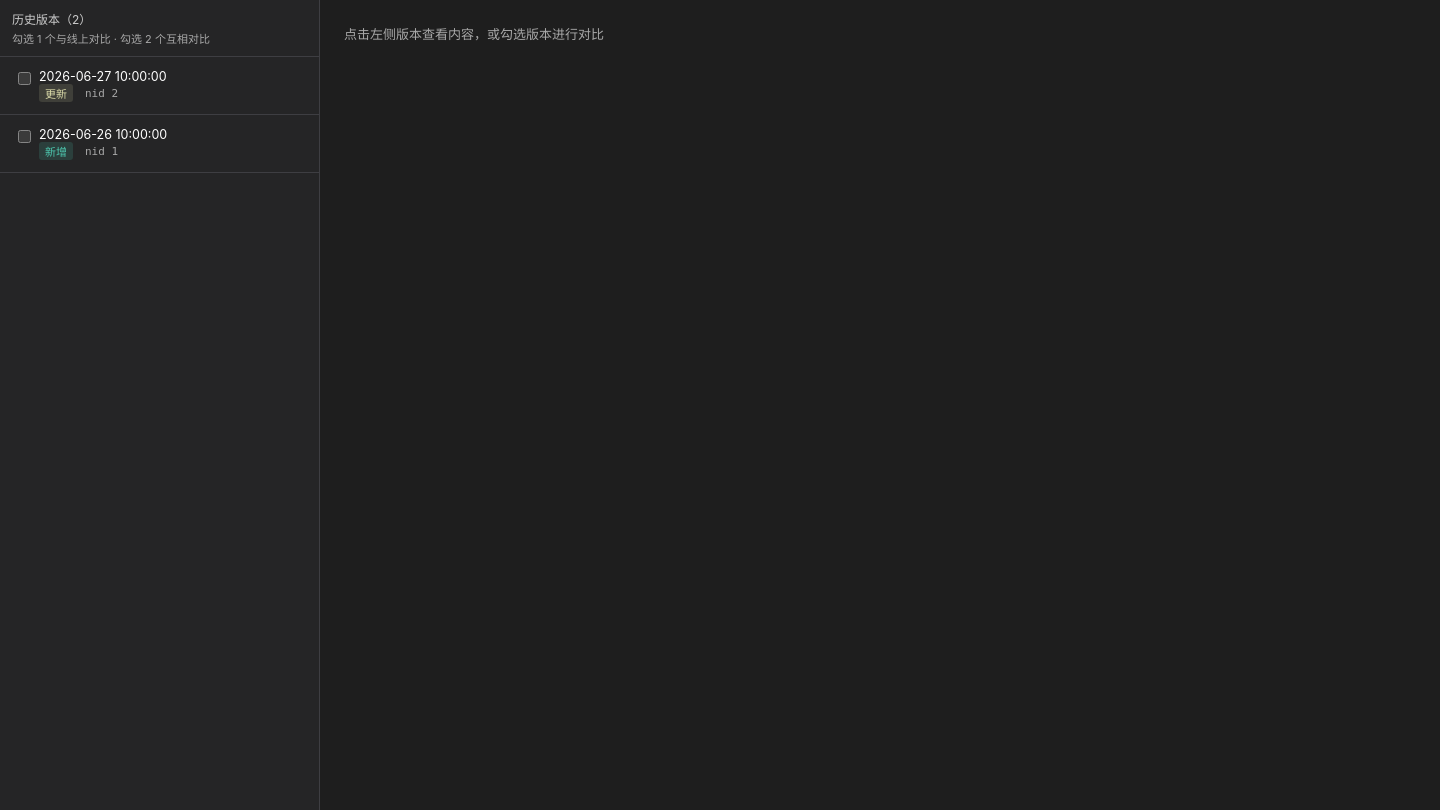
Scenario: HistoryView › opens a version and fetches its previous version for highlighted diff
Click the text "nid 2".
click(102, 93)  # box 85,86 -> 118,100
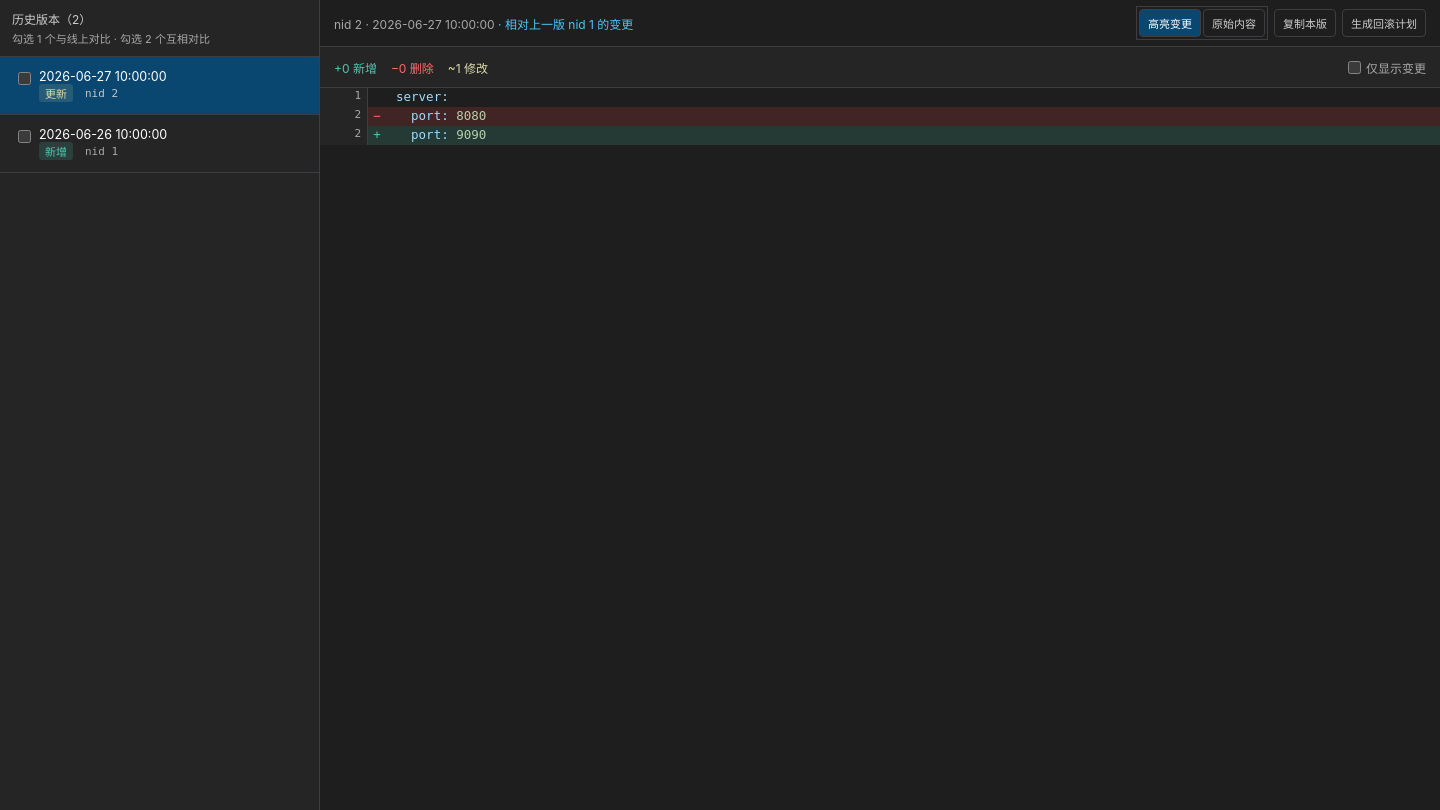
Check: the text "· 相对上一版 nid 1 的变更" is shown, box 495,16 -> 633,32
Check: the text "~1 修改" is shown, box 448,58 -> 488,76
